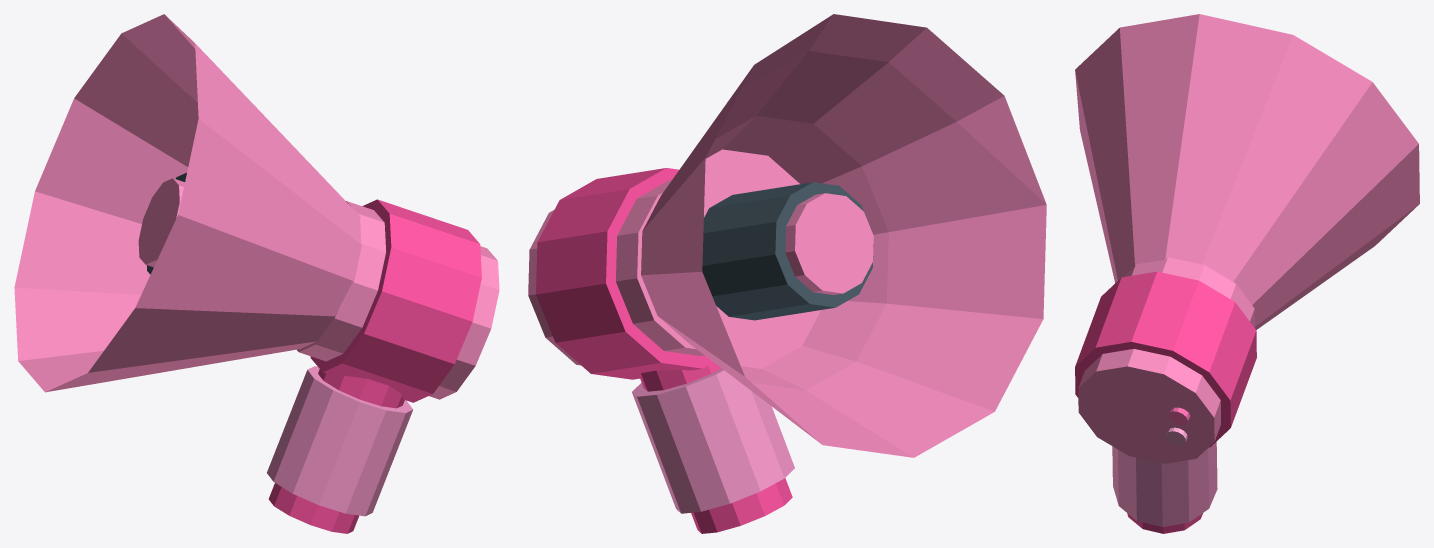
Rendered from prop-horn.glb.
The picture shows the model from 3 angles, left to right: view 1: azimuth 30°, elevation 25°; view 2: azimuth 150°, elevation 25°; view 3: azimuth 270°, elevation 25°; orthographic projection. The views are drawn at different scales.
Parts seen in each view (by area): view 1: group3790297, group785146625, group1572593315, group1862452726, group637496128, group856757783; view 2: group3790297, group785146625, group1572593315, group1093518013, group856757783, group1862452726, group637496128; view 3: group3790297, group785146625, group1862452726, group1572593315, group637496128.
Part boxes in pixels (x1,y1,x2,y2): group3790297: (14,14,361,392); group785146625: (310,199,481,402); group1572593315: (267,366,413,516); group1862452726: (297,201,499,399); group637496128: (268,369,404,533); group856757783: (138,178,184,267); group3790297: (641,14,1046,457); group785146625: (536,168,713,379); group1572593315: (632,368,794,513); group1093518013: (702,182,873,320); group856757783: (785,193,873,294); group1862452726: (528,180,704,365); group637496128: (639,362,792,533); group3790297: (1075,14,1419,329); group785146625: (1075,271,1256,447); group1862452726: (1078,257,1254,463); group1572593315: (1112,442,1217,526); group637496128: (1127,513,1202,533).
Size of the model in its own units: 0.4271 by 0.485 by 0.3296.
